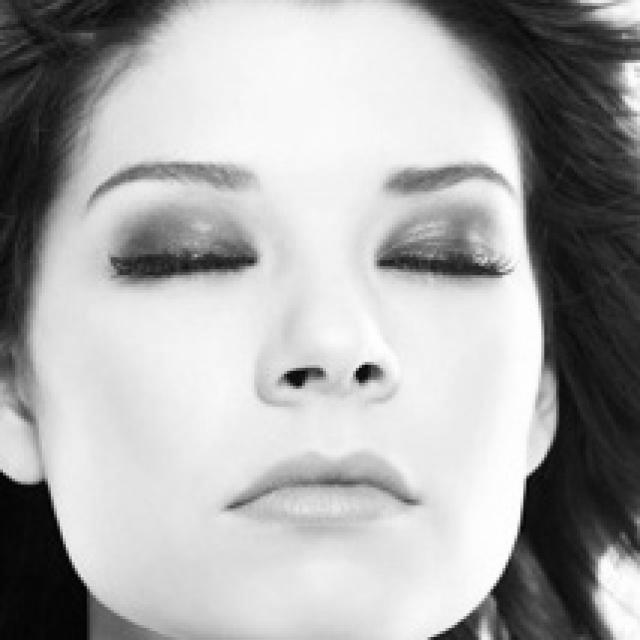real: (34, 44, 551, 616), (96, 188, 522, 302)
